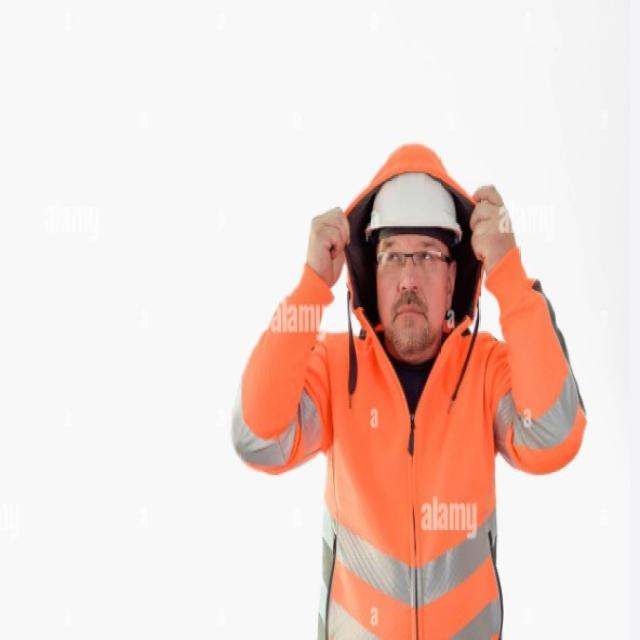not-gloved: (467, 170, 522, 266), (312, 196, 354, 284)
